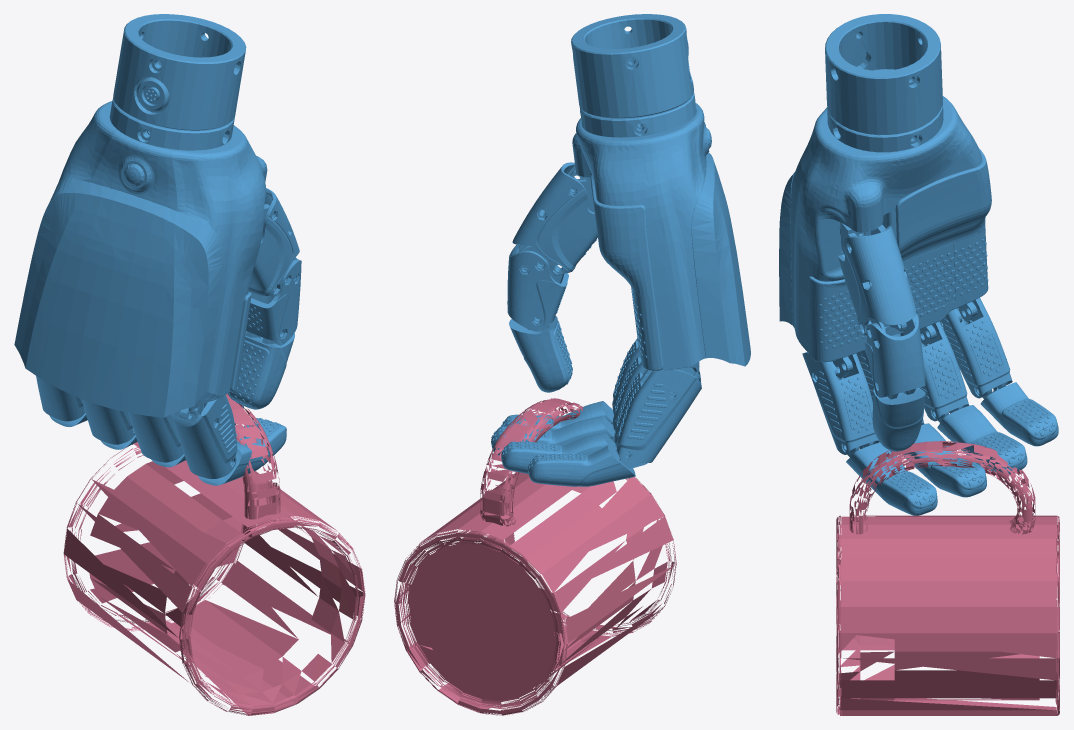
The picture shows the model from 3 angles, left to right: view 1: azimuth 30°, elevation 25°; view 2: azimuth 150°, elevation 25°; view 3: azimuth 270°, elevation 25°; orthographic projection. The views are drawn at different scales.
Visible parts, largest first — view 1: 5; view 2: 5; view 3: 5.
Part boxes in pixels (x1,y1,x2,y2): 5: (14,14,365,715); 5: (394,14,750,715); 5: (779,14,1059,715).
Size of the model in its own units: 0.1396 by 0.3042 by 0.121.
